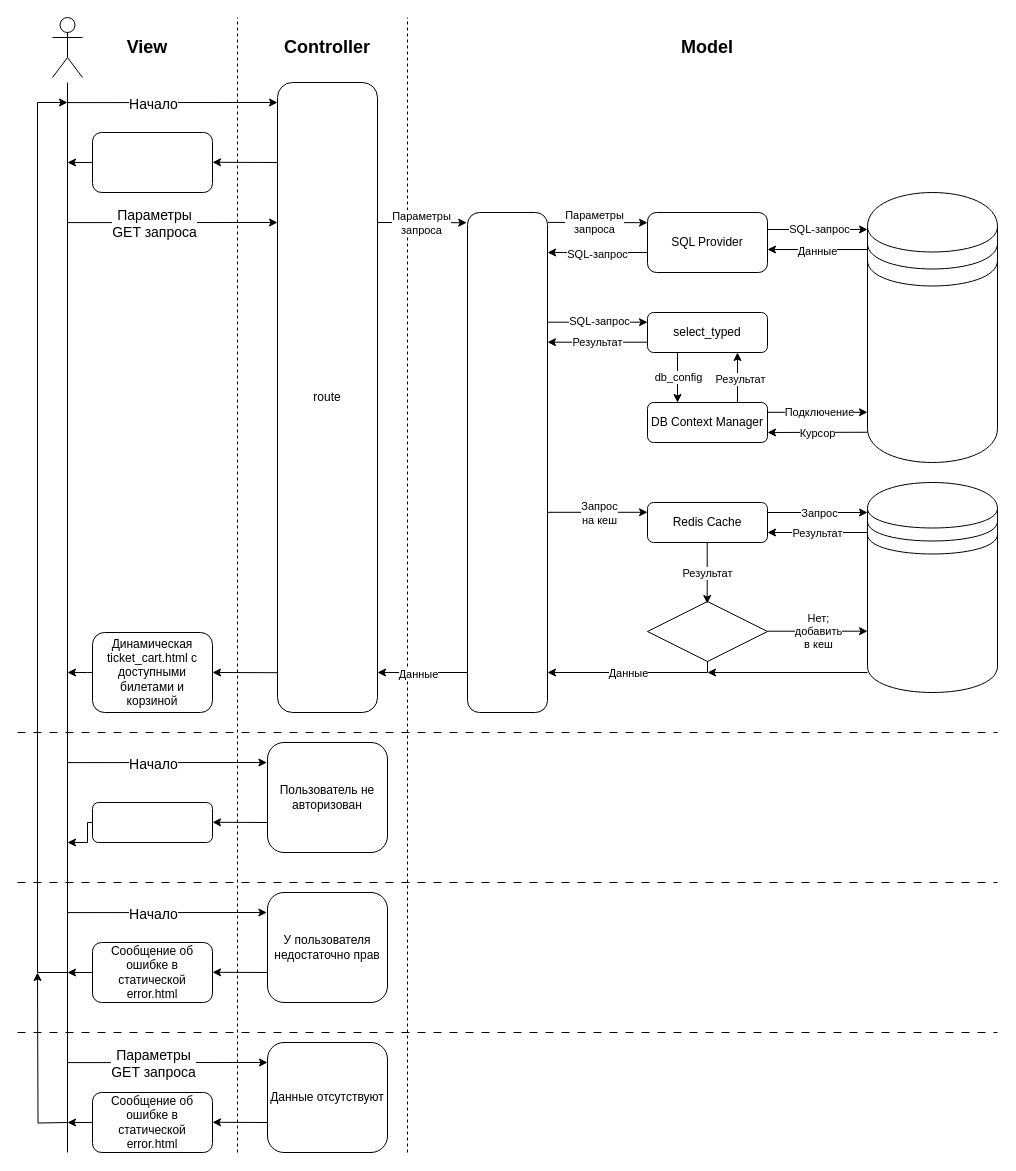
Some shapes in this 1016 by 1171 pixel diagram are drawn without their labels. The centre of each missing label's shape, as x and y in pixels:
"model_route" belongs at point 507,462.
"Redis" belongs at point 932,587.
"База данных" belongs at point 932,327.
"Динамическая ticket_report.html" belongs at point 152,162.
"Есть данные?" belongs at point 707,631.
"Переход на контроллер auth" belongs at point 152,822.
